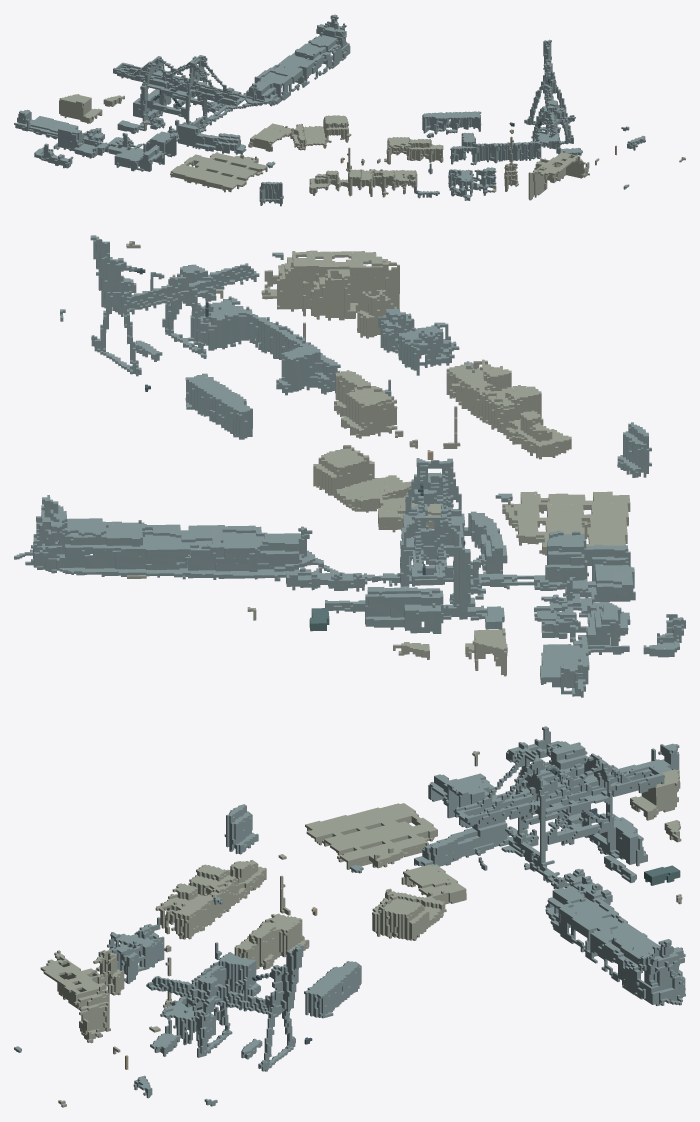
3 views of the same model, one above another, from view 1: azimuth 30°, elevation 25°; view 2: azimuth 150°, elevation 25°; view 3: azimuth 270°, elevation 25° (orthographic). The views are drawn at different scales.
Parts seen in each view (by area): view 1: measured-industrial; view 2: measured-industrial; view 3: measured-industrial.
Boxes of the visible parts, x1=… form: measured-industrial: x1=14, y1=14, x2=685, y2=206; measured-industrial: x1=14, y1=235, x2=685, y2=697; measured-industrial: x1=14, y1=726, x2=685, y2=1107.
Size of the model in its own units: 346 by 56.07 by 273.
